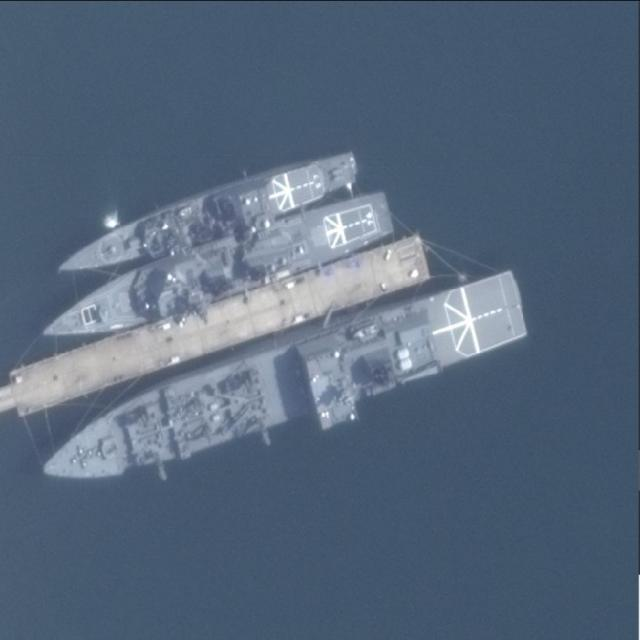Auxiliary Ships: (30, 270, 533, 498)
Destroyer: (28, 189, 400, 354), (50, 148, 364, 283)
